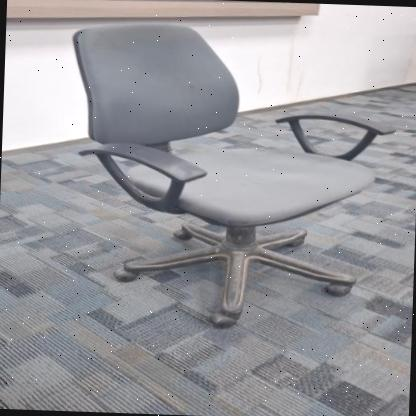chair: (60, 18, 397, 334)
